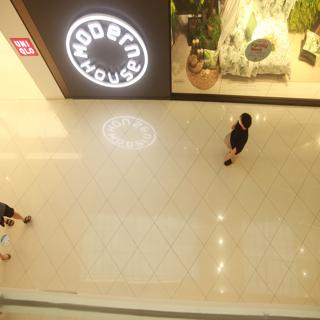person: (220, 105, 255, 179)
